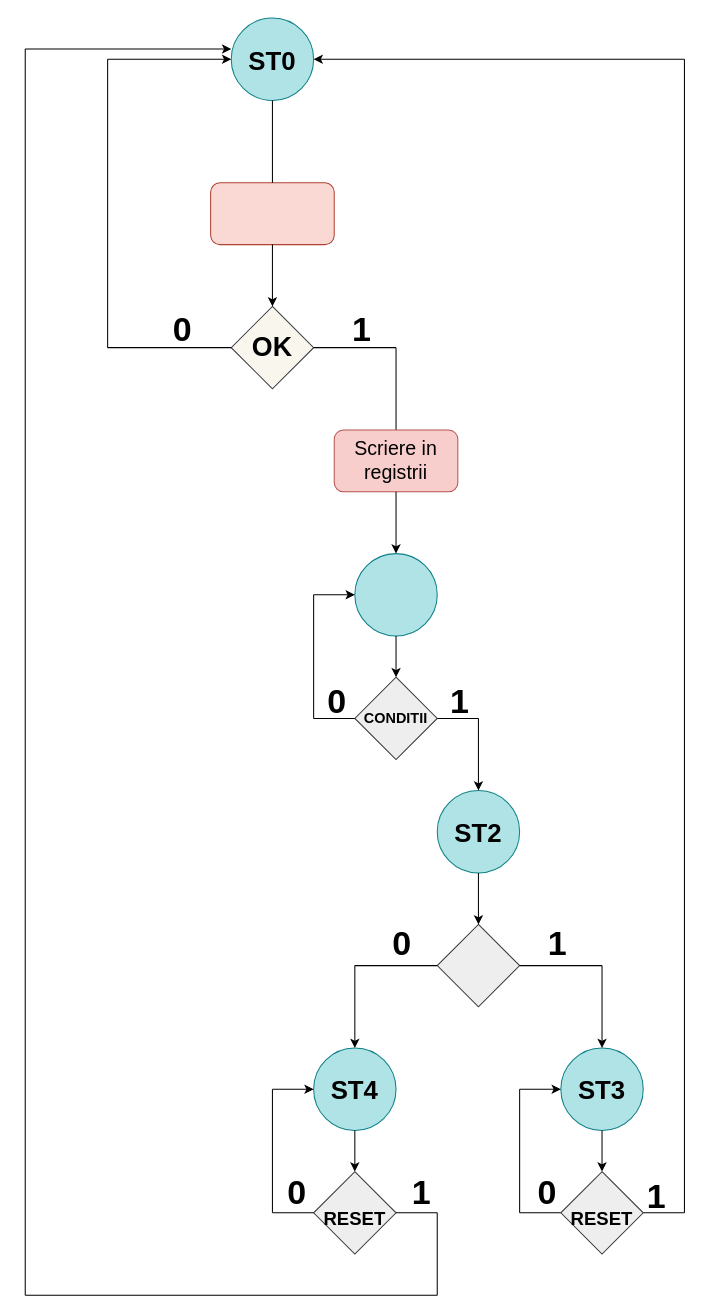
Image size: 711x1314. Some labels were removed from this diagram. Each missing label, with the centre of its shape:
Comanda etaj: the point at 272,213
DIR: the point at 478,965
ST1: the point at 395,594
